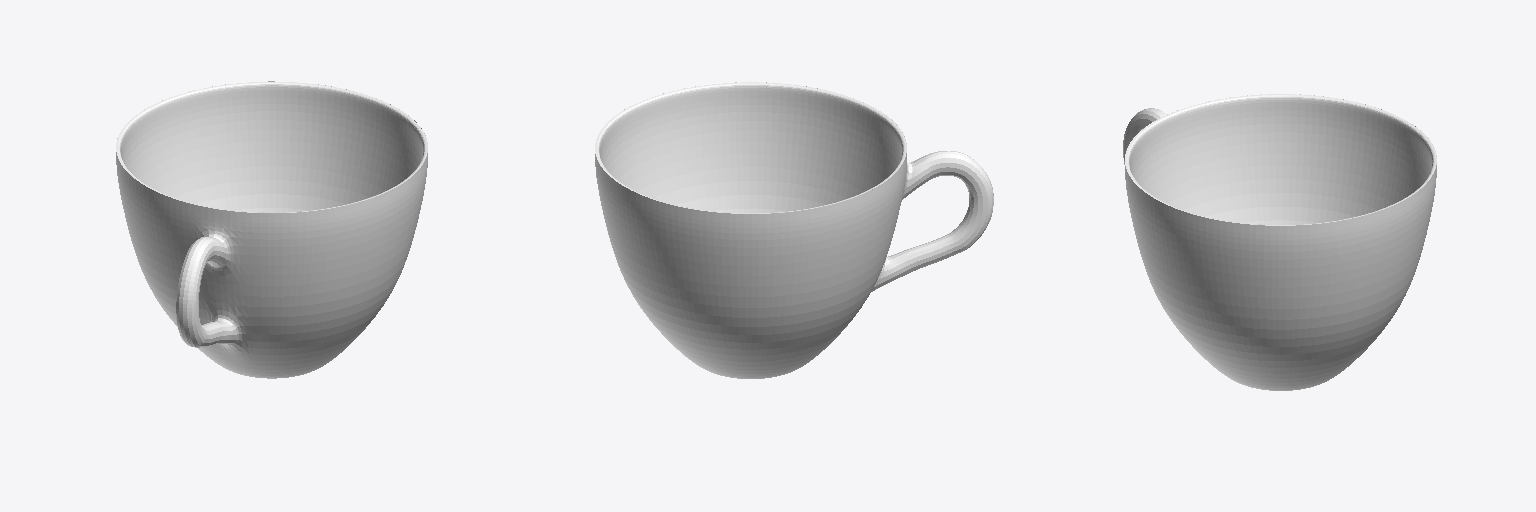
The model's file is coffee_cup.obj.
The picture shows the model from 3 angles: view 1: azimuth 30°, elevation 25°; view 2: azimuth 150°, elevation 25°; view 3: azimuth 270°, elevation 25°; orthographic projection.
Visible parts, largest first — view 1: Coffee_cup_Cylinder; view 2: Coffee_cup_Cylinder; view 3: Coffee_cup_Cylinder.
Boxes of the visible parts, <box> form: Coffee_cup_Cylinder: <box>116,81,427,378</box>; Coffee_cup_Cylinder: <box>595,82,993,378</box>; Coffee_cup_Cylinder: <box>1123,94,1436,390</box>.
Size of the model in its own units: 0.1094 by 0.0718 by 0.098.